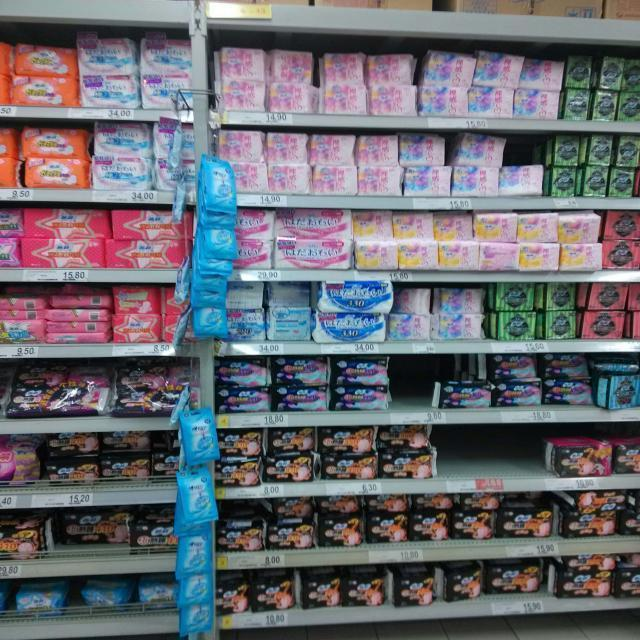Imprecise: (0, 280, 114, 345), (42, 506, 134, 558)
